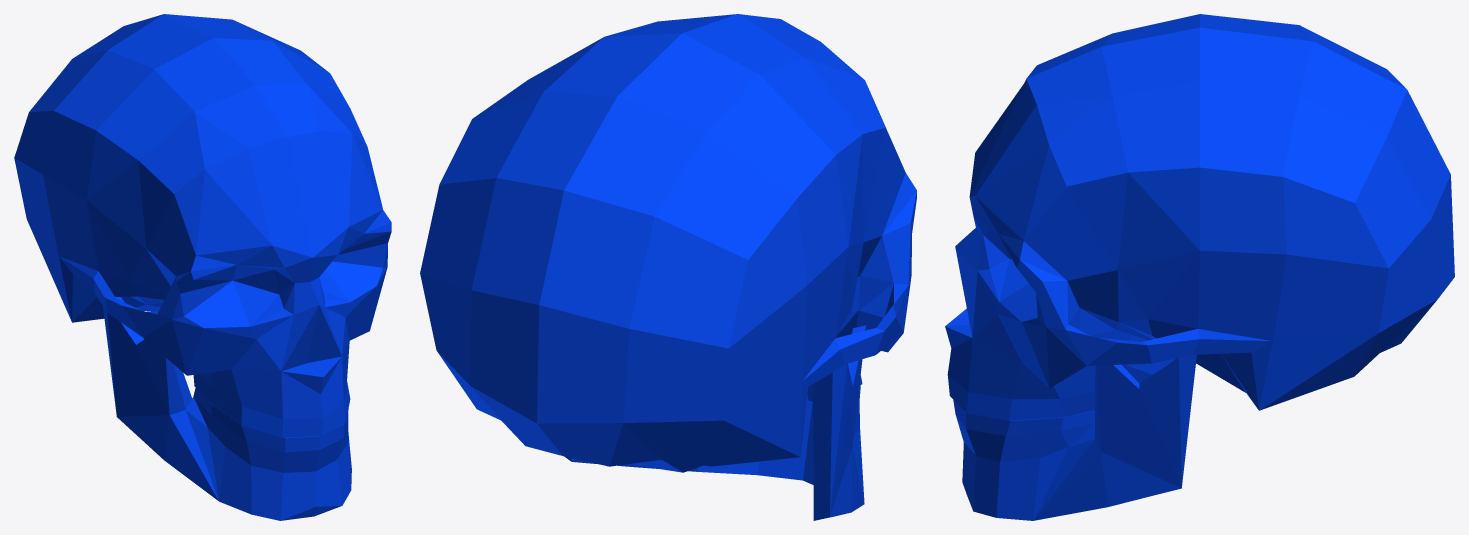
File: scull lp.obj
3 views of the same model, side by side, from view 1: azimuth 30°, elevation 25°; view 2: azimuth 150°, elevation 25°; view 3: azimuth 270°, elevation 25° (orthographic). The views are drawn at different scales.
Visible parts, largest first — view 1: Cube.001; view 2: Cube.001; view 3: Cube.001.
Part boxes in pixels (left/top/right/bottom): Cube.001: left=14, top=14, right=391, bottom=520; Cube.001: left=420, top=14, right=916, bottom=520; Cube.001: left=945, top=14, right=1454, bottom=520.
Size of the model in its own units: 1.36 by 1.99 by 1.95.
